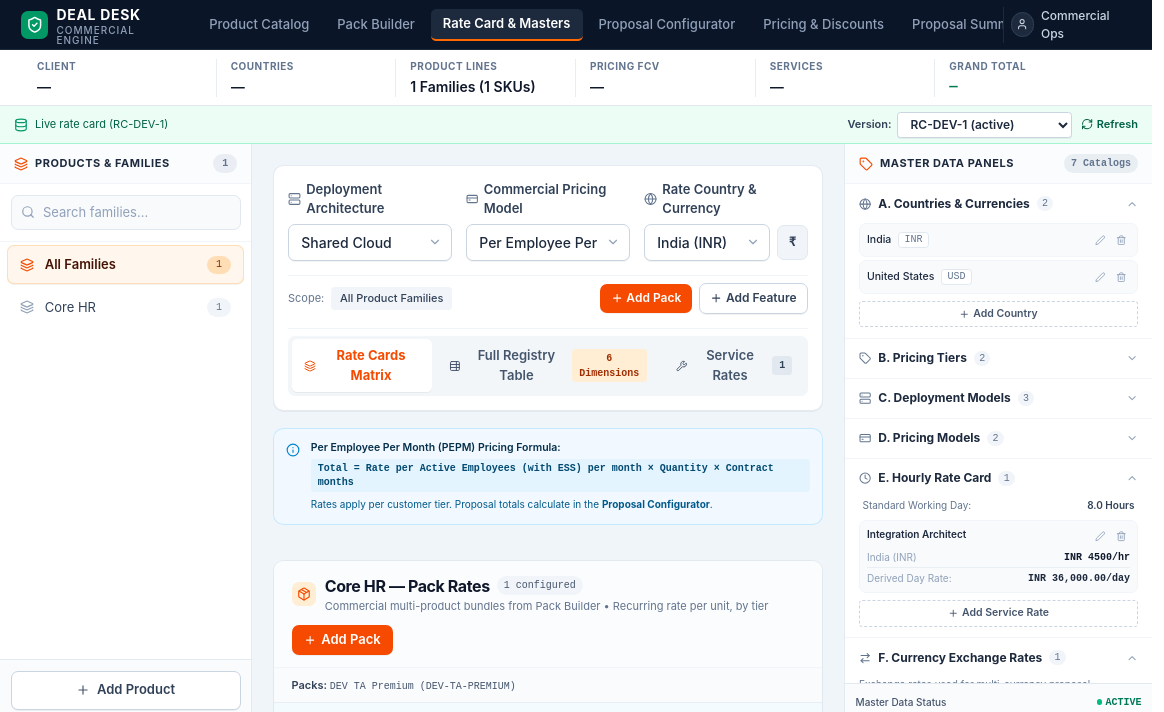
Test: Rate Card & Masters Integration Tests (Live Backend Wiring) › protects retired rate card version snapshots in read-only mode
expect the text "Live rate card (RC-DEV-1)" is shown: met, box [35,116,168,133]
Note: Switch version to retired version
Select "RC-HIST-2025 (retired)" in the dropdown named "Rate Card Version" at (985, 124), box [897,112,1072,138]
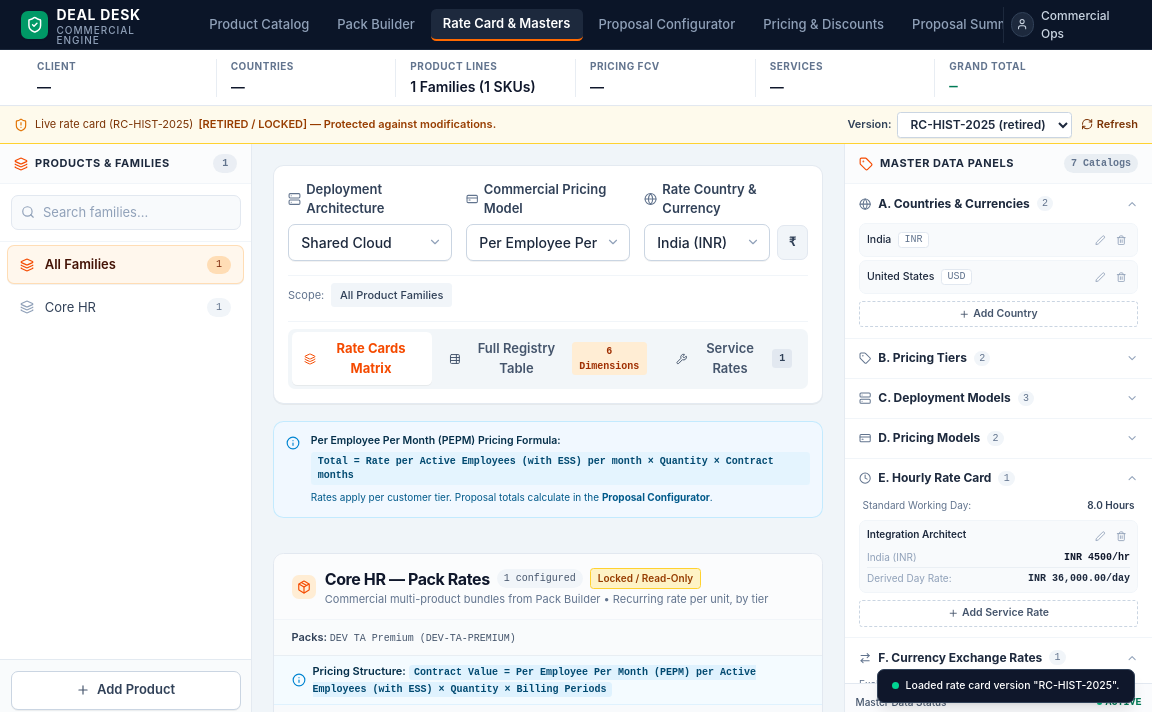
expect the text "[RETIRED / LOCKED] — Protected against modifications." is shown: met, box [198,117,496,131]
expect the text "Locked / Read-Only" is shown: met, box [590,568,701,589]
